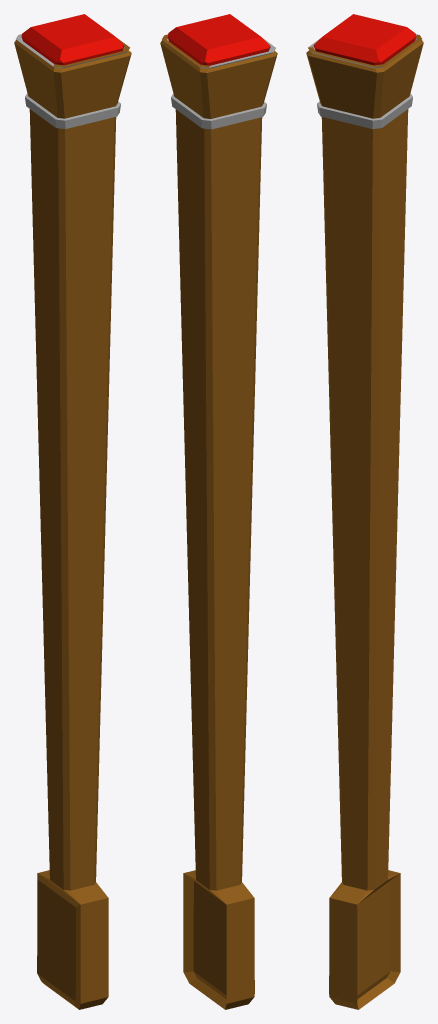
File: SPOOOOOOOOOOOOOOOOOOOOOOOOOOOOOOOOOOOON!!!!!!!!.fbx
3 renders of one model, left to right at view 1: azimuth 30°, elevation 25°; view 2: azimuth 210°, elevation 25°; view 3: azimuth 330°, elevation 25°, orthographic.
Parts seen in each view (by area): view 1: Cube.001, Cube; view 2: Cube.001, Cube; view 3: Cube.001, Cube.
Boxes of the visible parts, x1,y1,x2,y2 form: Cube.001: (14,34,131,1009); Cube: (21,14,124,65); Cube.001: (160,34,277,1009); Cube: (167,14,270,65); Cube.001: (306,34,423,1009); Cube: (313,14,416,65).
Size of the model in its own units: 267 by 3153 by 267.
